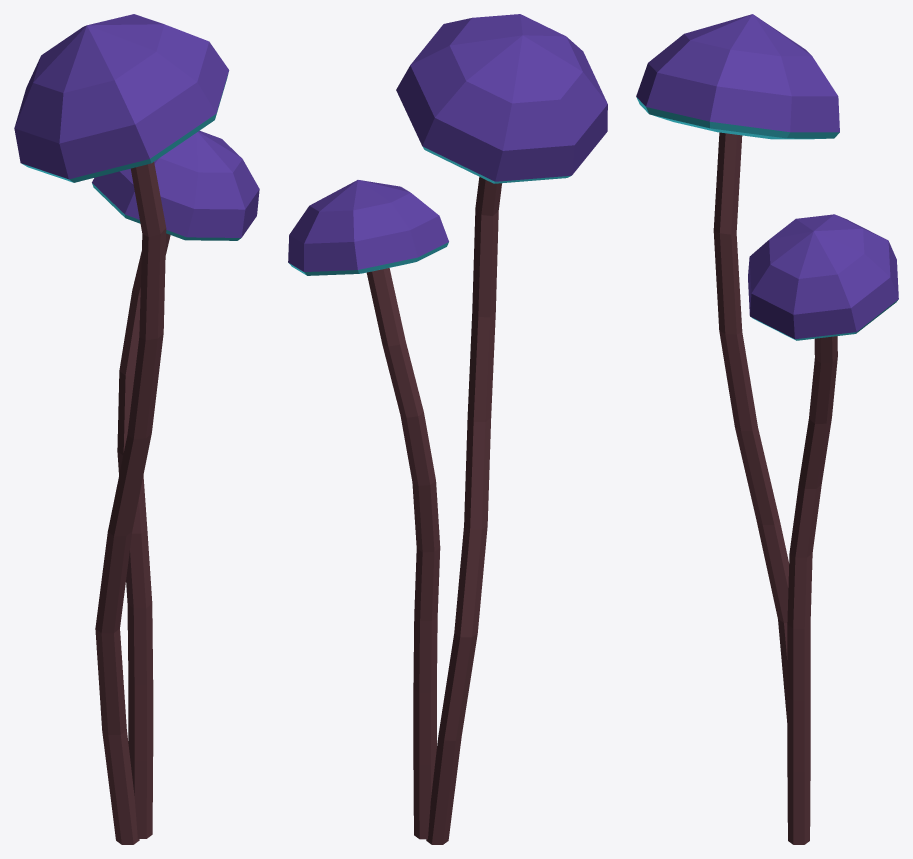
Rendered from scifi-tree-mushroom-medium.fbx.
The picture shows the model from 3 angles, left to right: view 1: azimuth 30°, elevation 25°; view 2: azimuth 150°, elevation 25°; view 3: azimuth 270°, elevation 25°; orthographic projection. The views are drawn at different scales.
Visible parts, largest first — view 1: scifi-tree-mushroom-medium; view 2: scifi-tree-mushroom-medium; view 3: scifi-tree-mushroom-medium.
Part boxes in pixels (x1=…): scifi-tree-mushroom-medium: x1=14, y1=14, x2=259, y2=844; scifi-tree-mushroom-medium: x1=288, y1=14, x2=607, y2=844; scifi-tree-mushroom-medium: x1=636, y1=14, x2=898, y2=844.
Bounding box in the file's own units: 1.08 × 3.4 × 1.02.
